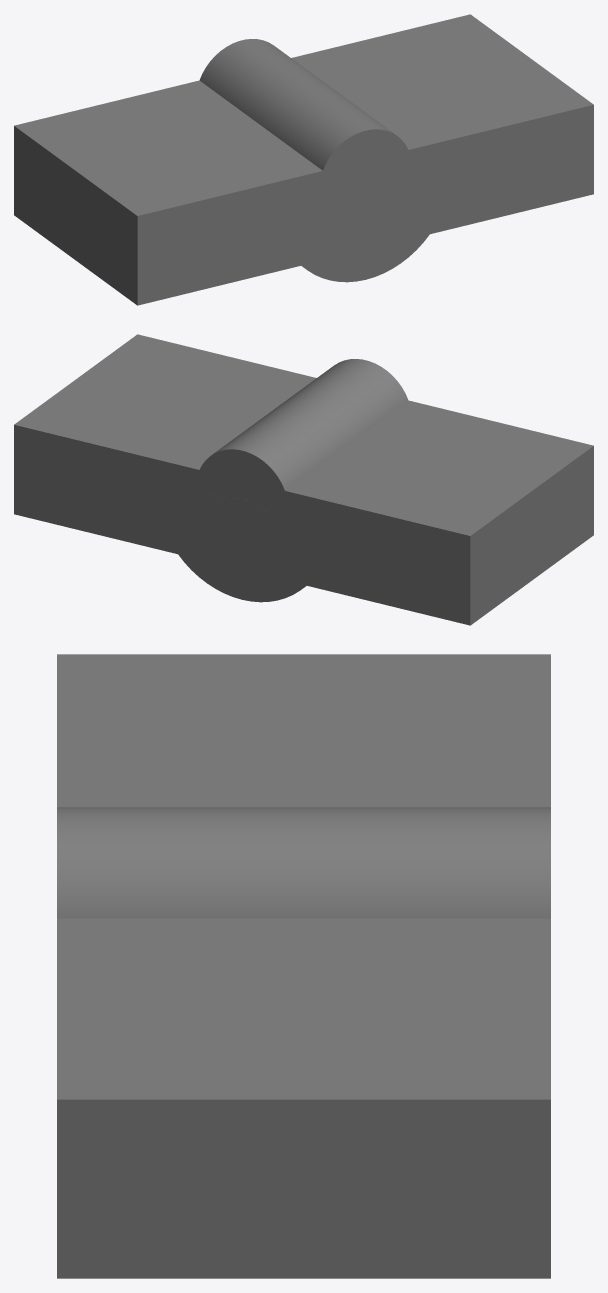
3 renders of one model, top to bottom at view 1: azimuth 30°, elevation 25°; view 2: azimuth 150°, elevation 25°; view 3: azimuth 270°, elevation 25°, orthographic. The views are drawn at different scales.
Visible parts, largest first — view 1: mesh_id4, mesh_id5; view 2: mesh_id4, mesh_id5; view 3: mesh_id4, mesh_id5.
Part boxes in pixels (x1,y1,x2,y2): mesh_id4: (14, 14, 593, 305); mesh_id5: (199, 39, 429, 282); mesh_id4: (14, 334, 593, 625); mesh_id5: (178, 359, 408, 602); mesh_id4: (57, 654, 550, 1278); mesh_id5: (57, 807, 550, 918).
Size of the model in its own units: 0.512 by 0.1599 by 0.24.
Materials: 2 (2 with a texture image).
